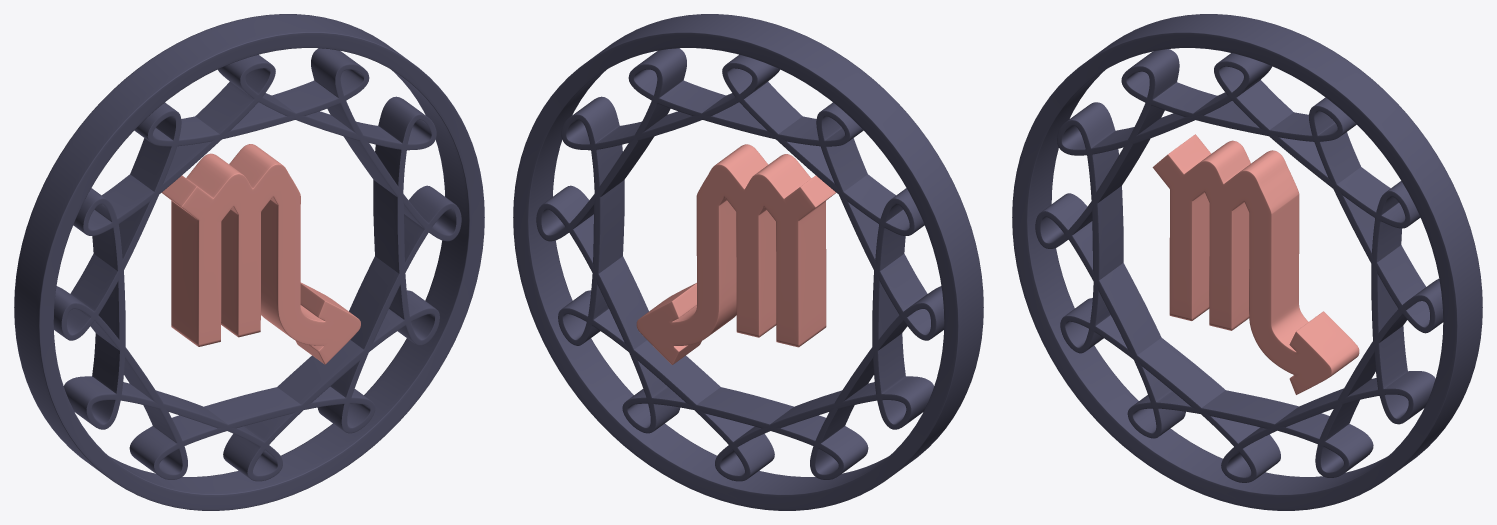
The model's file is badrpost-sign-4835.glb.
3 views of the same model, side by side, from view 1: azimuth 30°, elevation 25°; view 2: azimuth 150°, elevation 25°; view 3: azimuth 330°, elevation 25° (orthographic).
Visible parts, largest first — view 1: Embellishments frame, circle frame, 08 Scorpio The Scorpion_sign; view 2: Embellishments frame, circle frame, 08 Scorpio The Scorpion_sign; view 3: Embellishments frame, circle frame, 08 Scorpio The Scorpion_sign.
Boxes of the visible parts, x1,y1,x2,y2 form: Embellishments frame: (53, 48, 461, 481); circle frame: (14, 14, 484, 510); 08 Scorpio The Scorpion_sign: (161, 144, 360, 364); Embellishments frame: (536, 48, 944, 481); circle frame: (513, 14, 983, 510); 08 Scorpio The Scorpion_sign: (636, 144, 836, 364); Embellishments frame: (1035, 49, 1443, 482); circle frame: (1012, 14, 1482, 510); 08 Scorpio The Scorpion_sign: (1152, 134, 1359, 394).
Size of the model in its own units: 0.2631 by 0.263 by 0.0284.
